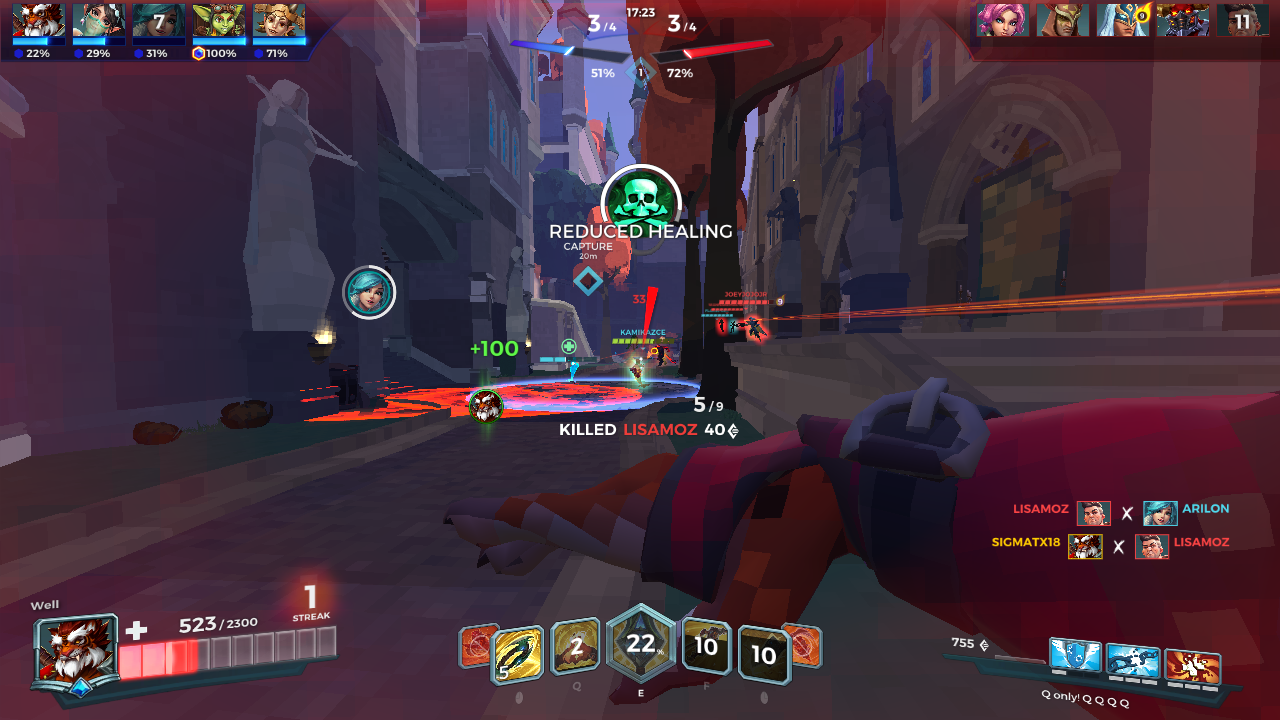model: (743, 312, 772, 346), (715, 314, 728, 337)
